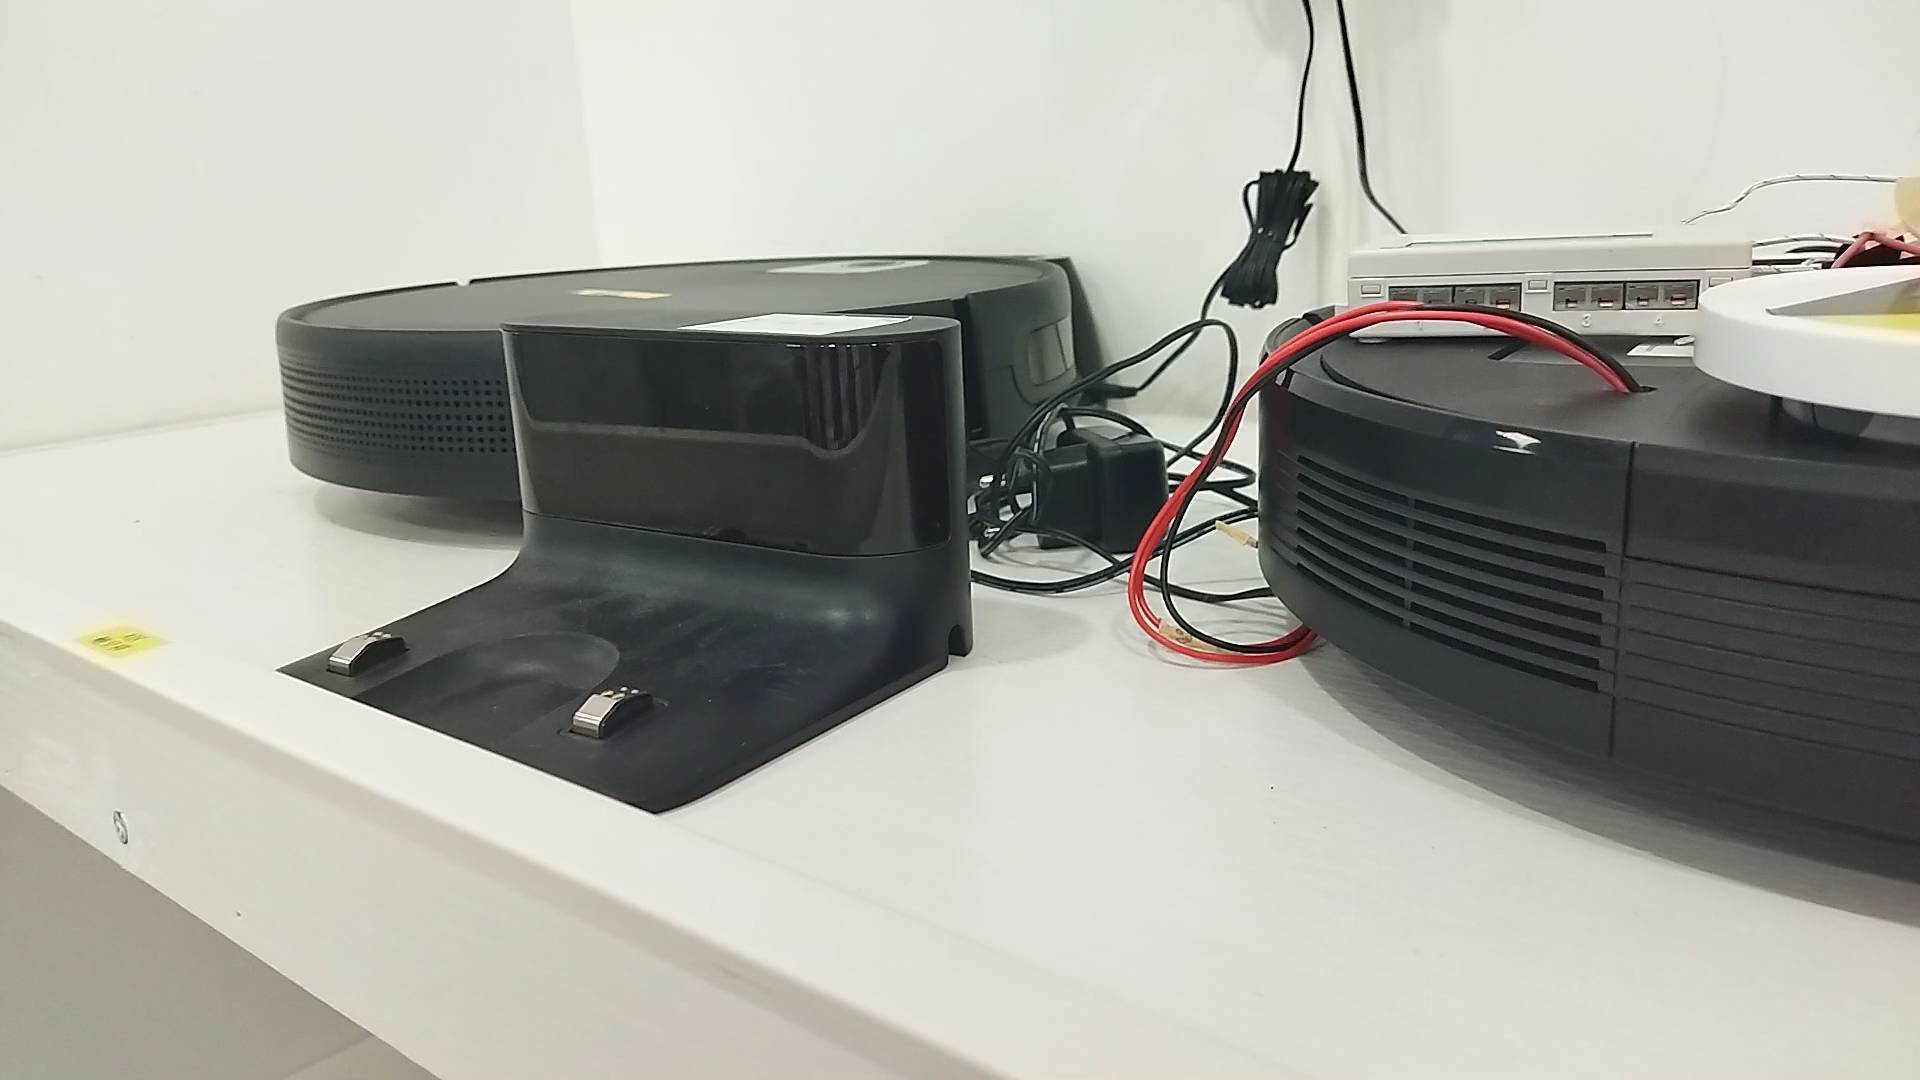recharge seat: (274, 309, 980, 814)
